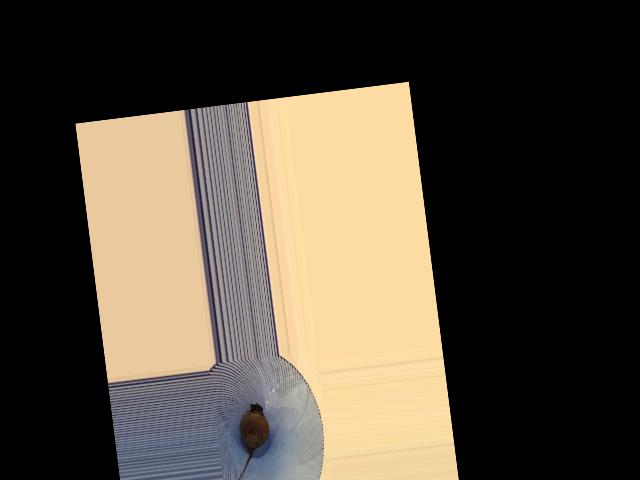beet: (226, 401, 274, 480)
